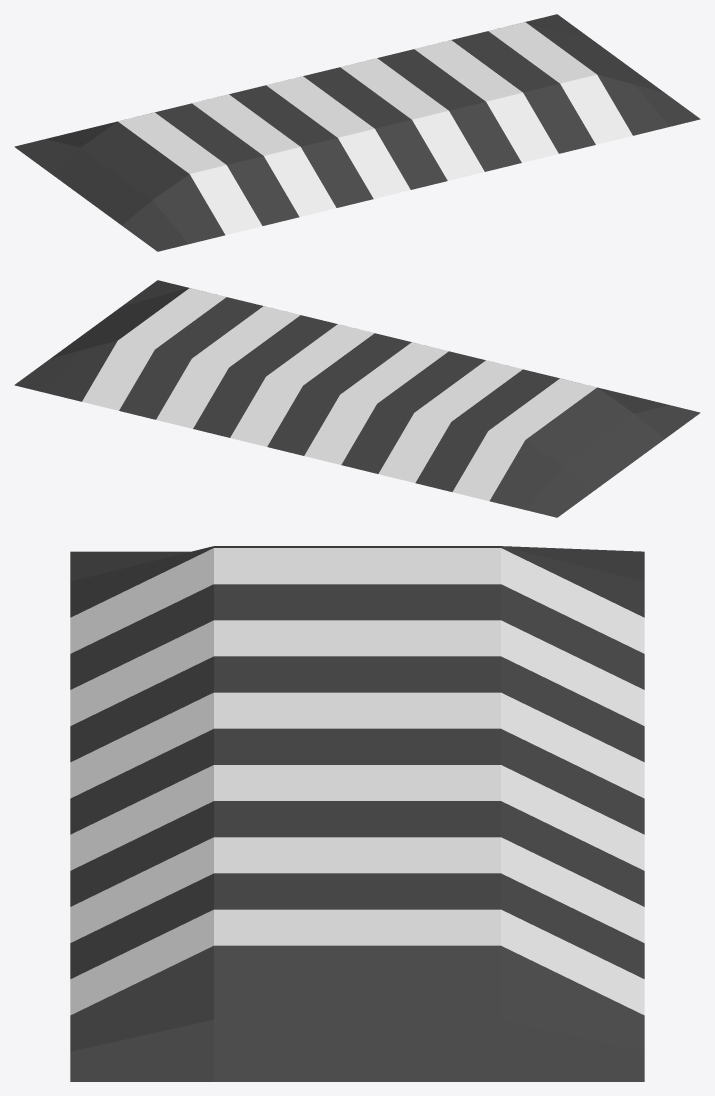
The model's file is crosswalk-raised.glb.
3 views of the same model, one above another, from view 1: azimuth 30°, elevation 25°; view 2: azimuth 150°, elevation 25°; view 3: azimuth 270°, elevation 25° (orthographic). The views are drawn at different scales.
Visible parts, largest first — view 1: crosswalk-raised; view 2: crosswalk-raised; view 3: crosswalk-raised.
Part boxes in pixels (x1,y1,x2,y2): crosswalk-raised: (14,14,700,251); crosswalk-raised: (14,280,700,517); crosswalk-raised: (70,546,644,1081).
Bounding box in the file's own units: 3.35 × 0.2063 × 1.54.
1 material, 1 textured.
